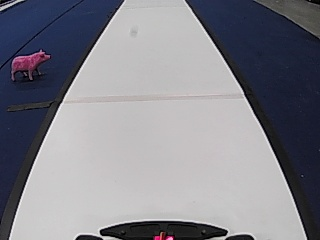pig: (10, 49, 51, 81)
